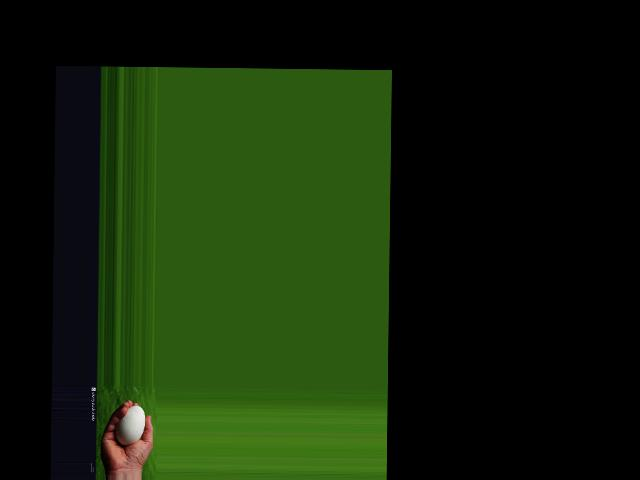egg: (114, 405, 145, 446)
